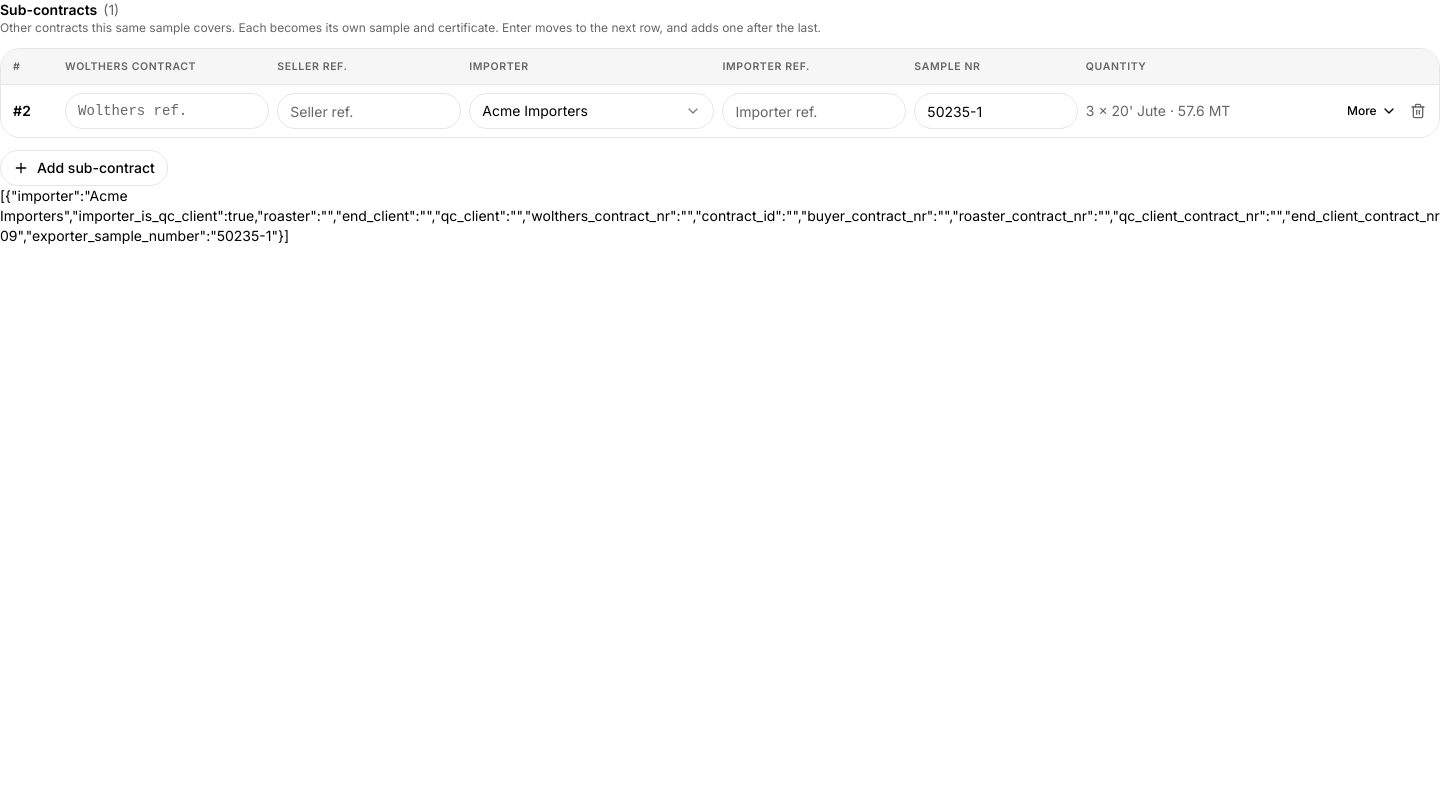
Test: SubContractsTable › switching a contract to bulk keeps its boxes, reads out the totals and flags an over-full box
Click the button with aria-label "More fields, sub-contract #2": coordinates (1372, 111) [1339,97,1405,125]
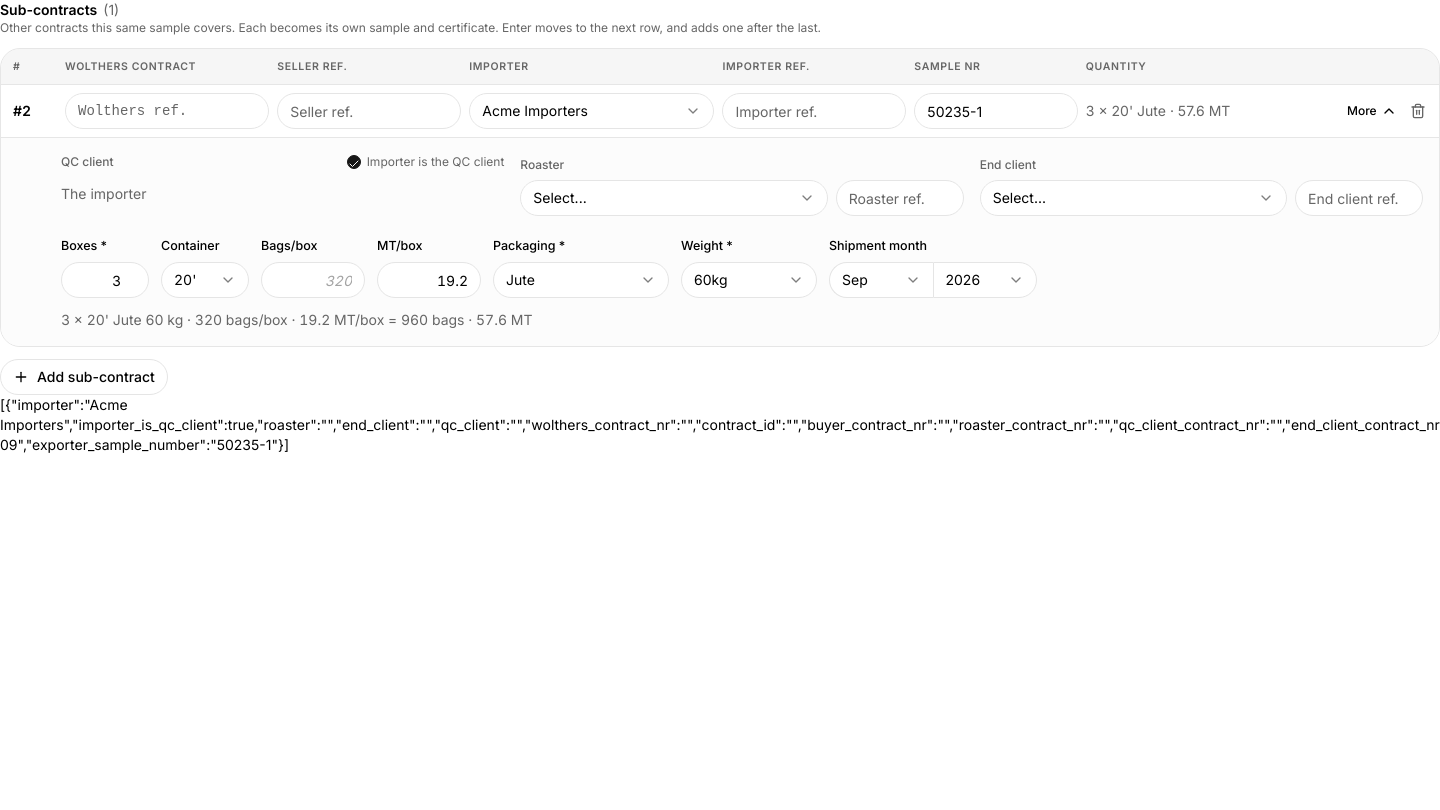
Expected: the text with test id "quantity-summary" reads "3 × 20' Jute 60 kg · 320 bags/box · 19.2 MT/box = 960 bags · 57.6 MT", [61,311,532,328]
Expected: the button with aria-label "Packaging" is enabled
Click the button with aria-label "Packaging": coordinates (581, 280) [493,262,669,298]
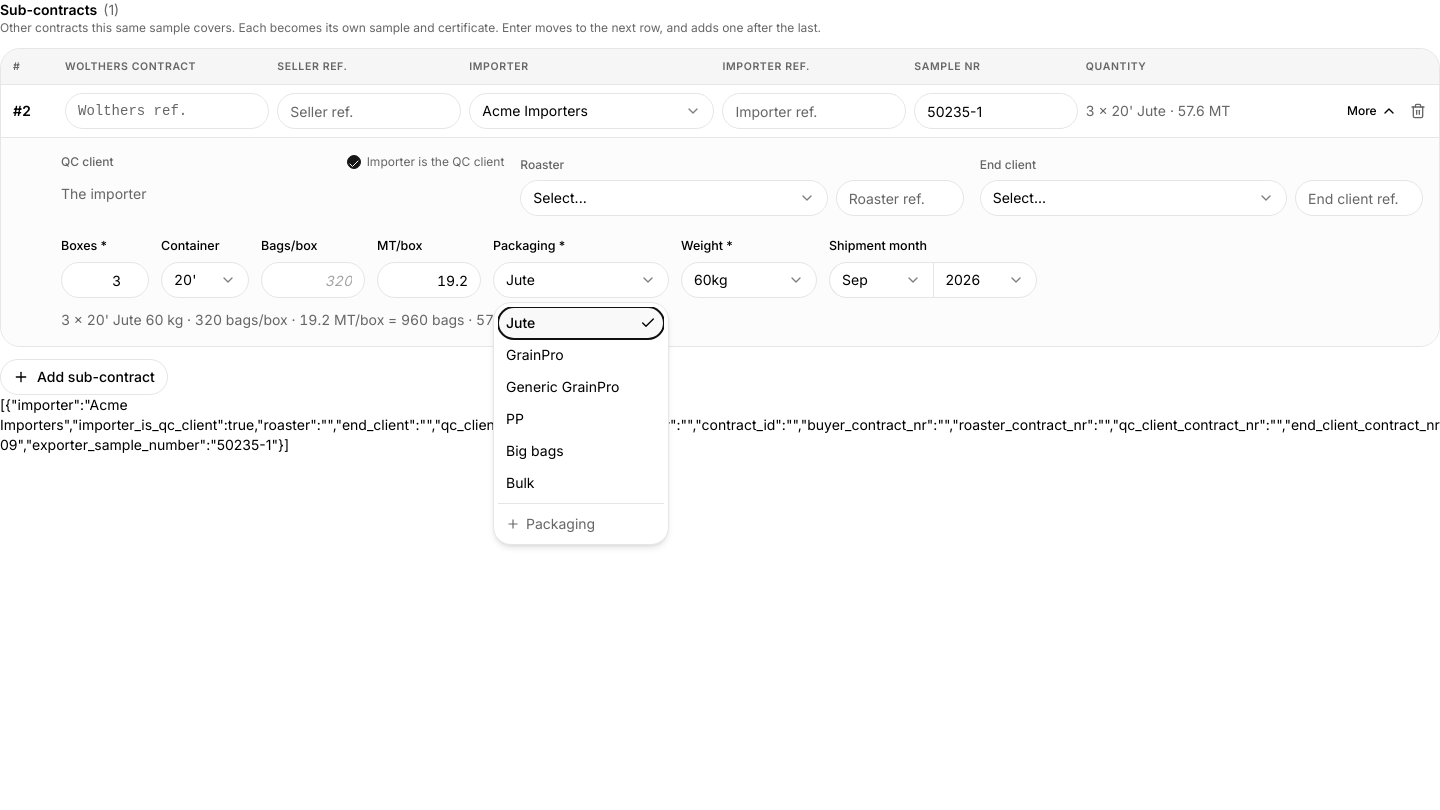
Click the option "Bulk": coordinates (581, 483) [498,467,664,499]
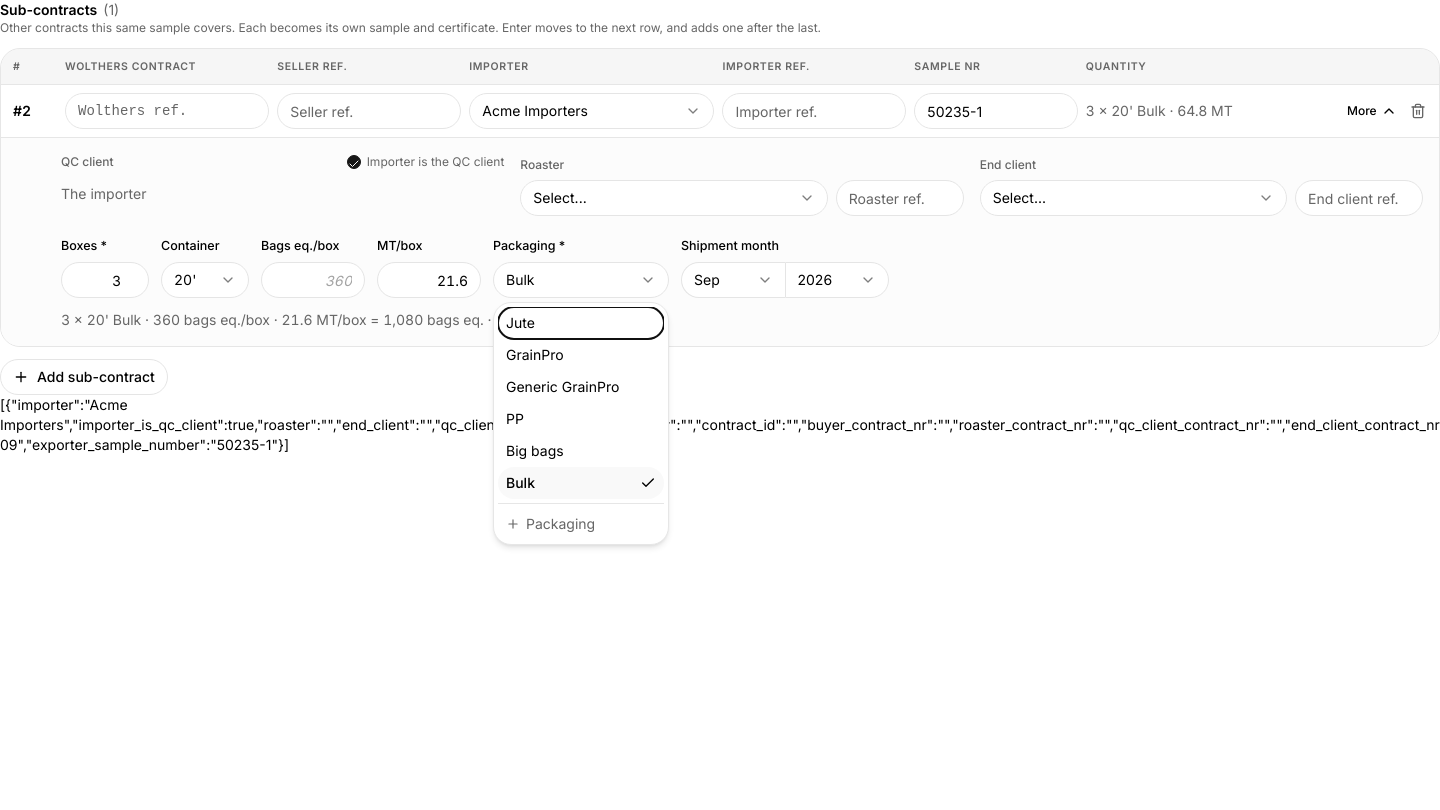
Expected: the text with test id "quantity-summary" reads "3 × 20' Bulk · 360 bags eq./box · 21.6 MT/box = 1,080 bags eq. · 64.8 MT", [61,311,552,328]
Replace the text in the field labelled "MT/box" with "19.338": coordinates (429, 280) [377,262,481,298]
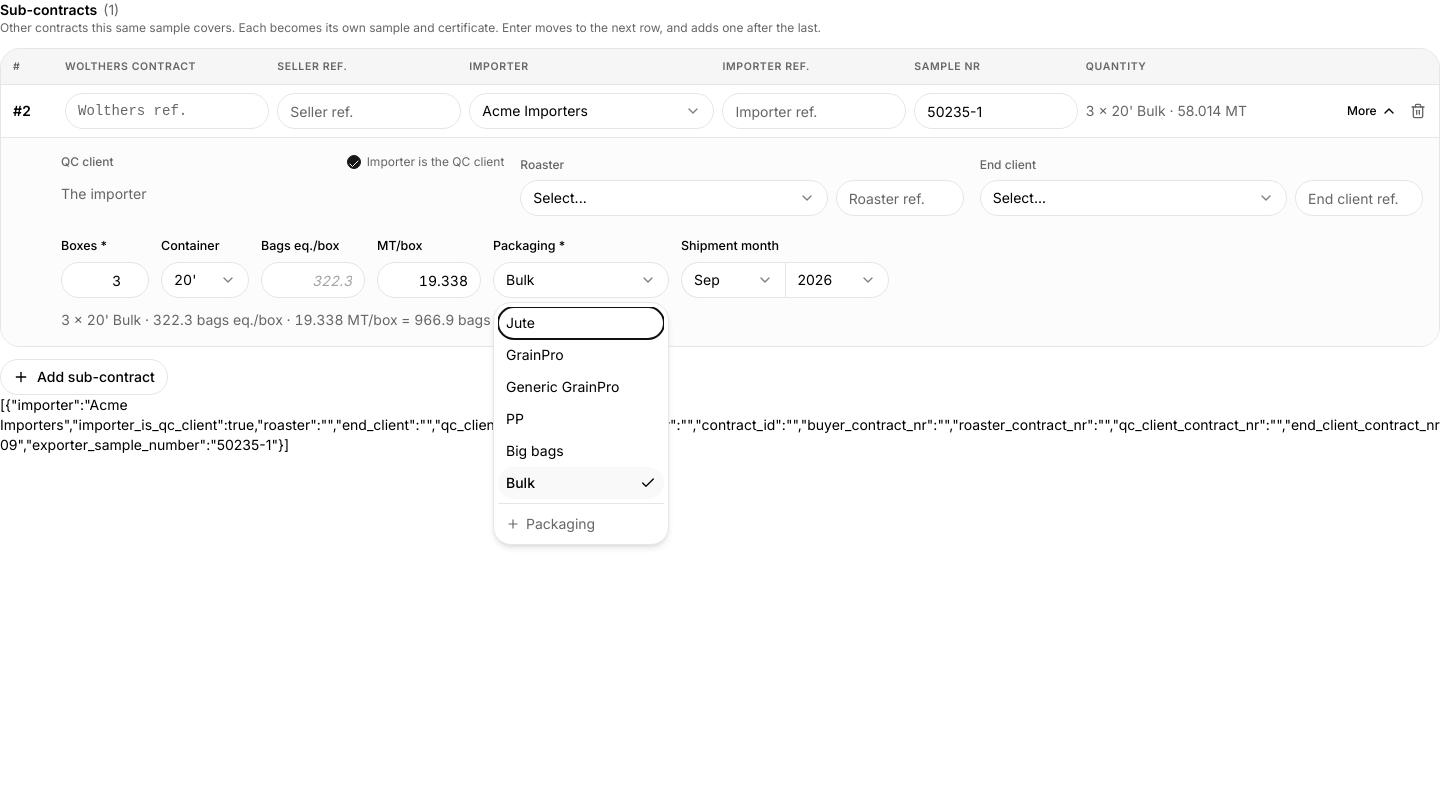
Expected: the text with test id "quantity-summary" shows "322.3 bags eq./box", [61,311,601,328]
Replace the text in the field labelled "MT/box" with "22": coordinates (429, 280) [377,262,481,298]
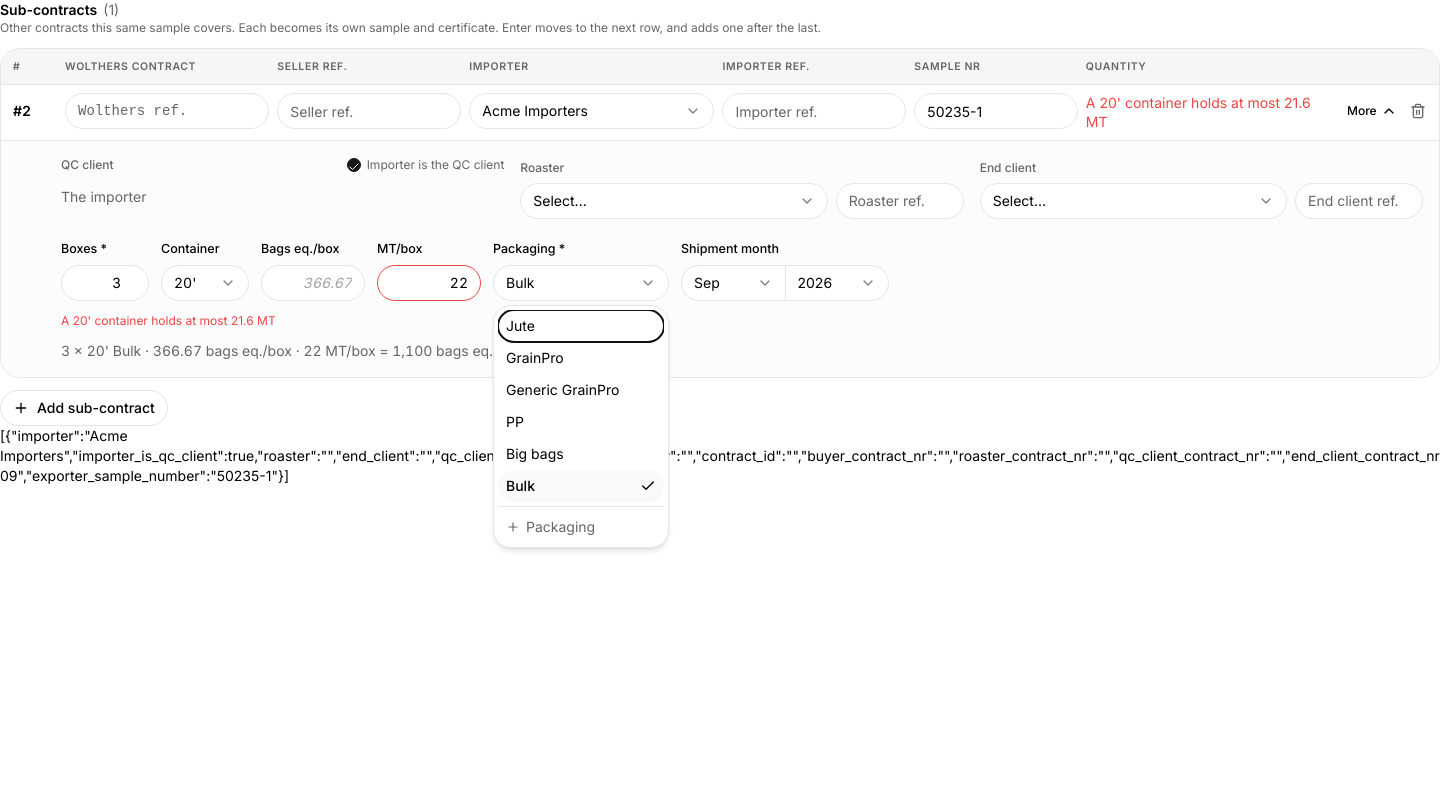
Expected: the message reads "A 20' container holds at most 21.6 MT", [61,312,276,328]
